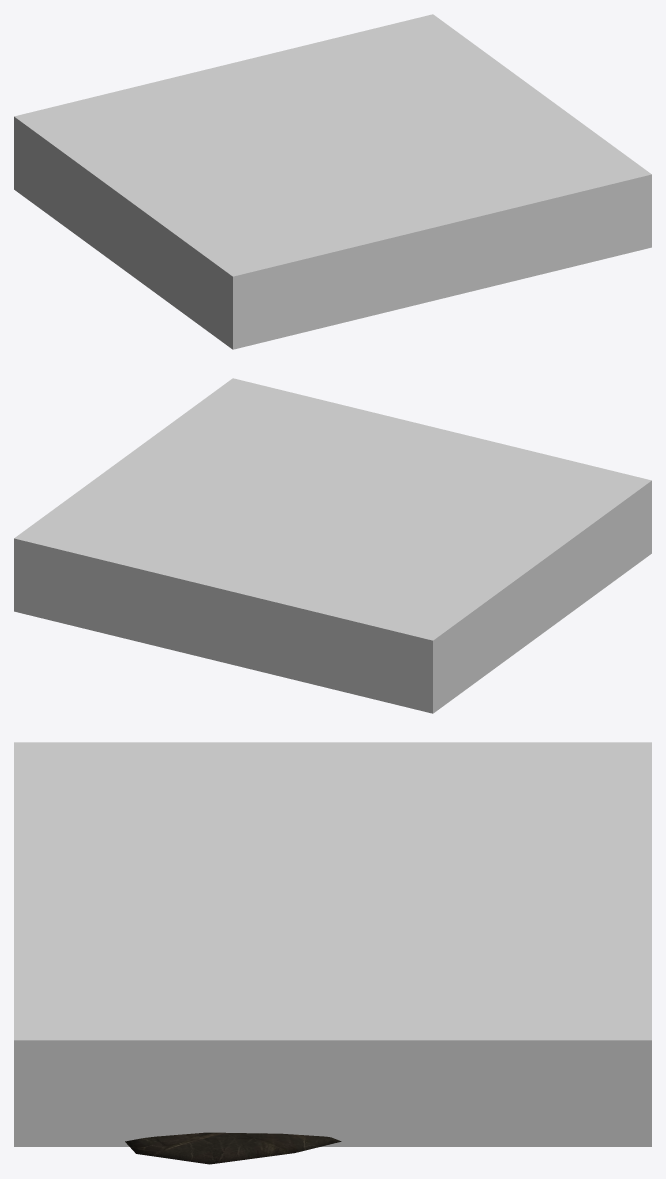
The model's file is sack_pile_broken.glb.
The picture shows the model from 3 angles, top to bottom: view 1: azimuth 30°, elevation 25°; view 2: azimuth 150°, elevation 25°; view 3: azimuth 270°, elevation 25°; orthographic projection. The views are drawn at different scales.
Visible parts, largest first — view 1: col_click; view 2: col_click; view 3: col_click, sack_pile_broken.
Boxes of the visible parts, x1,y1,x2,y2 form: col_click: [14, 14, 651, 349]; col_click: [14, 378, 651, 713]; col_click: [14, 742, 651, 1146]; sack_pile_broken: [125, 1132, 341, 1164].
Size of the model in its own units: 2.26 by 0.35 by 1.9.
Materials: 3 (2 with a texture image).
